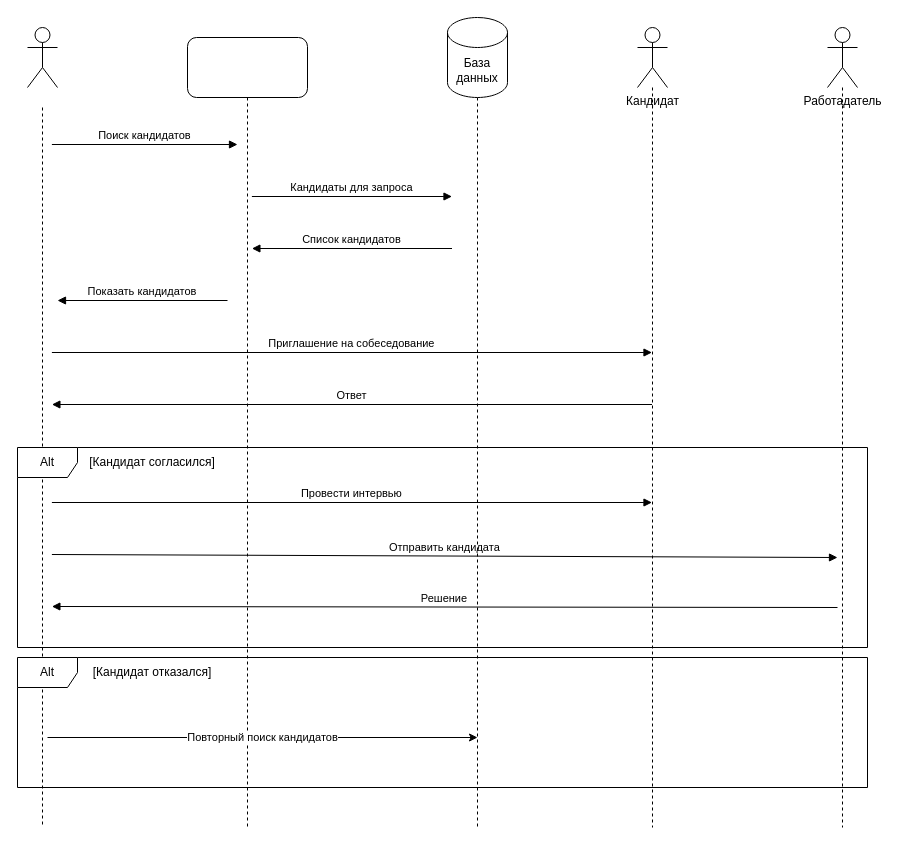
This 899x846 diagram has some shape labels left out. The centre of each missing label's shape, as x and y in pixels:
Рекрутер: the point at 42,57
Система: the point at 247,67
